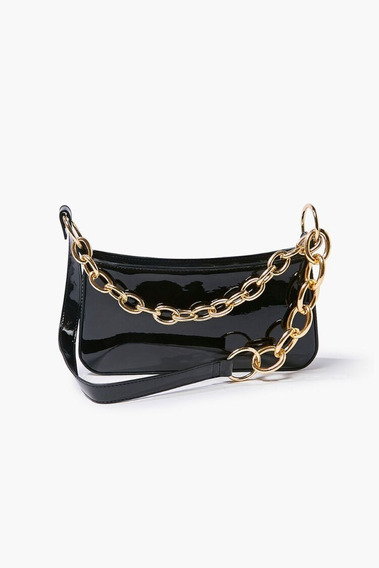cartera: (48, 202, 331, 406)
